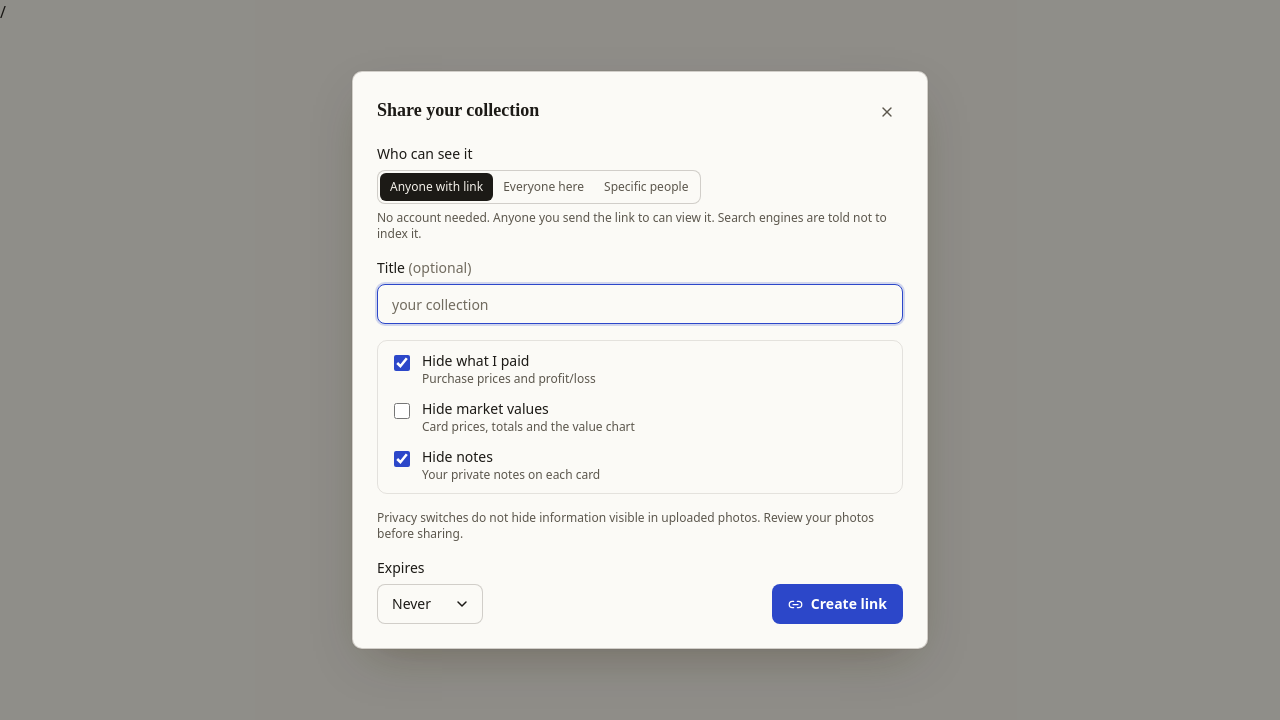
Test: ShareDialog › shows server errors
Step 1. Click the button "Create link" → (837, 604), box 772,584 -> 903,624
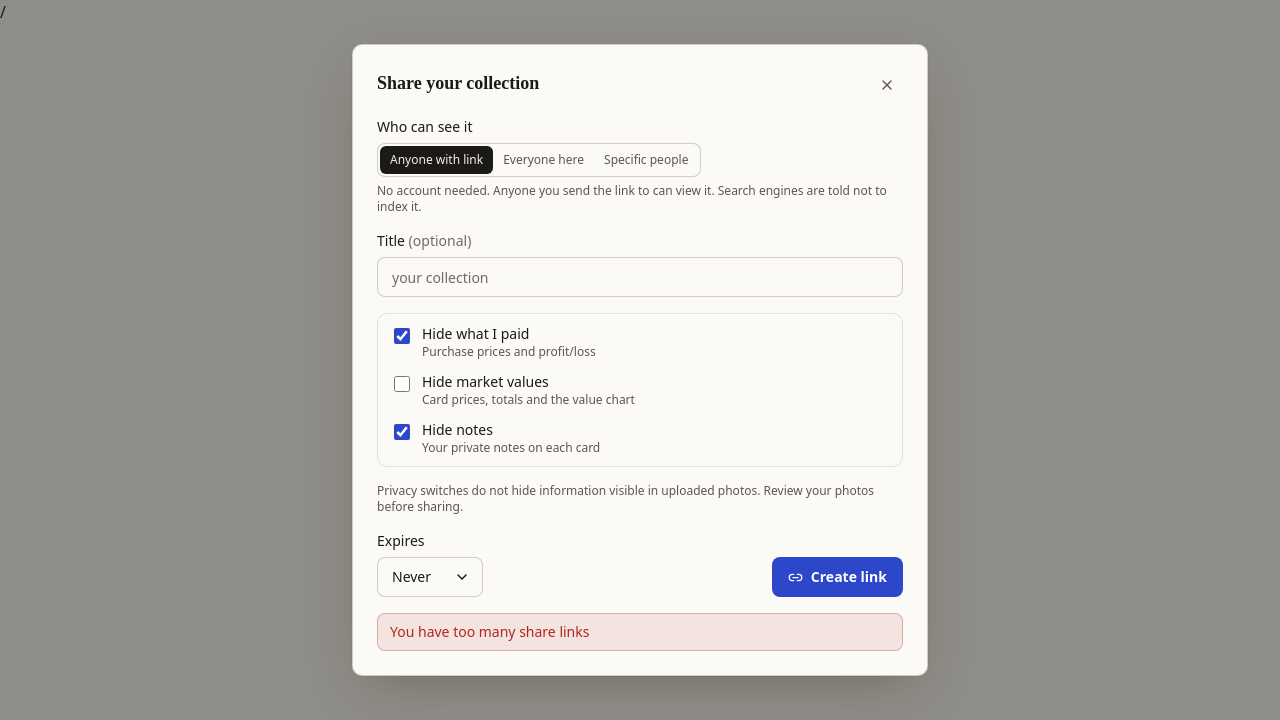
Expected: the message reads "You have too many share links", 390,622 -> 590,641
